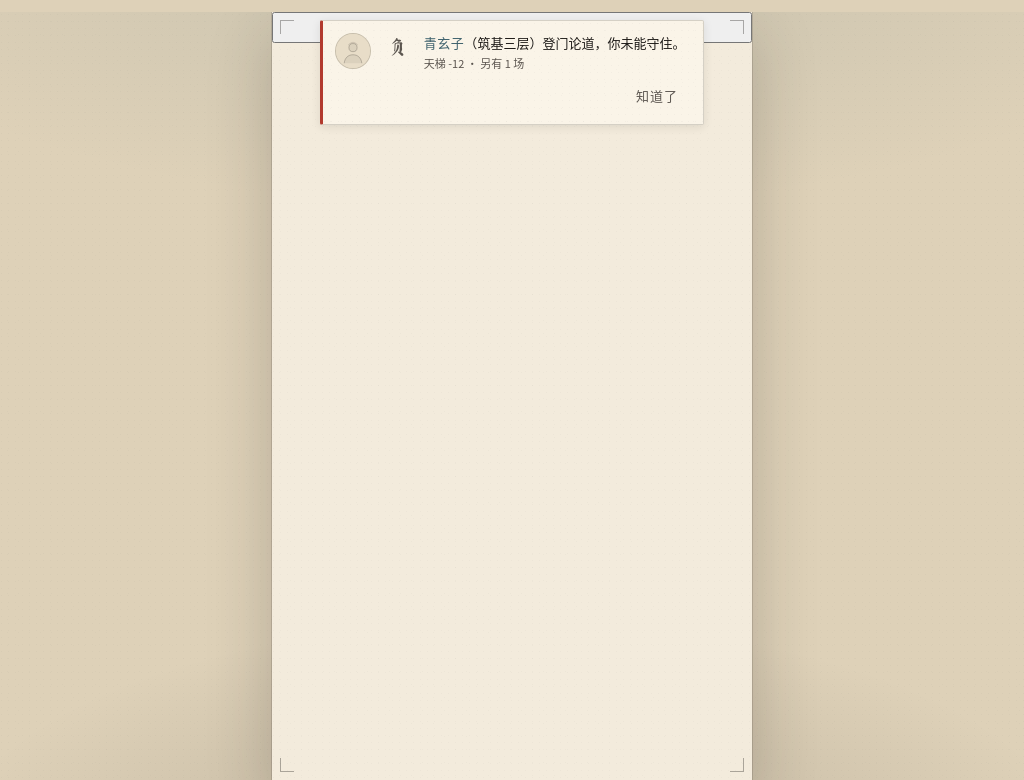
Scenario: ArenaChallengedNotice › clears the whole batch on 知道了
What coordinates should you click on to do the following:
click the button "知道了"
I would click on:
 (657, 96)
Its box is [623, 80, 691, 112].
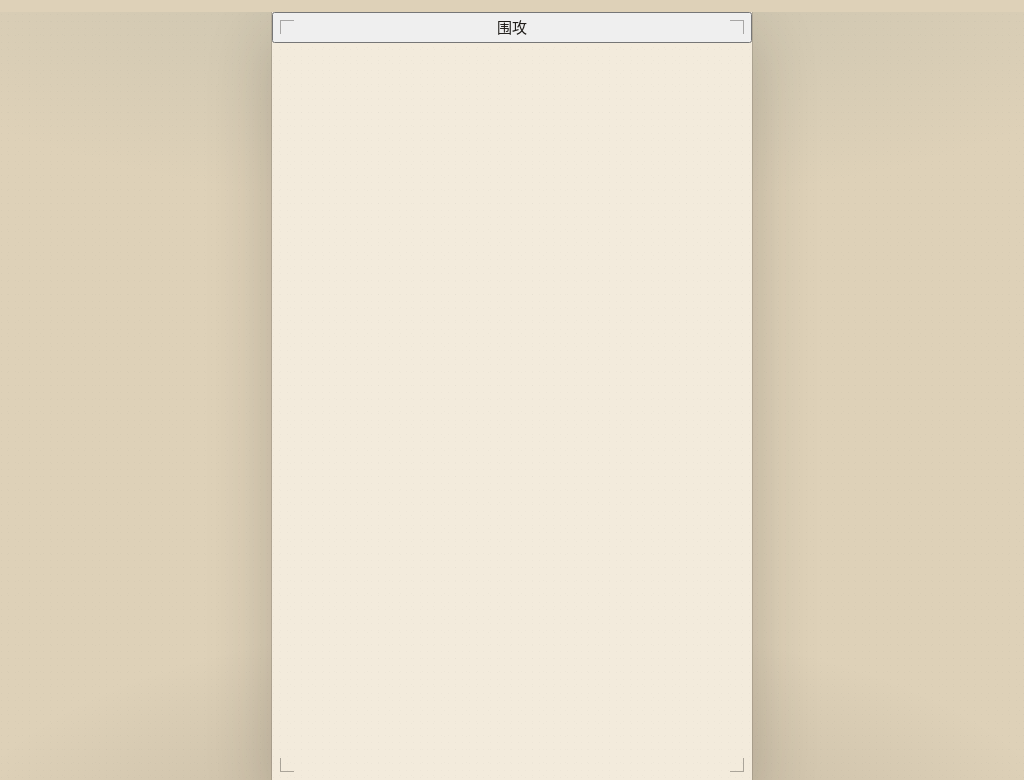
Expected: the message "负 青玄子 （筑基三层）登门论道，你未能守住。 天梯 -12 · 另有 1 场 知道了" is gone
